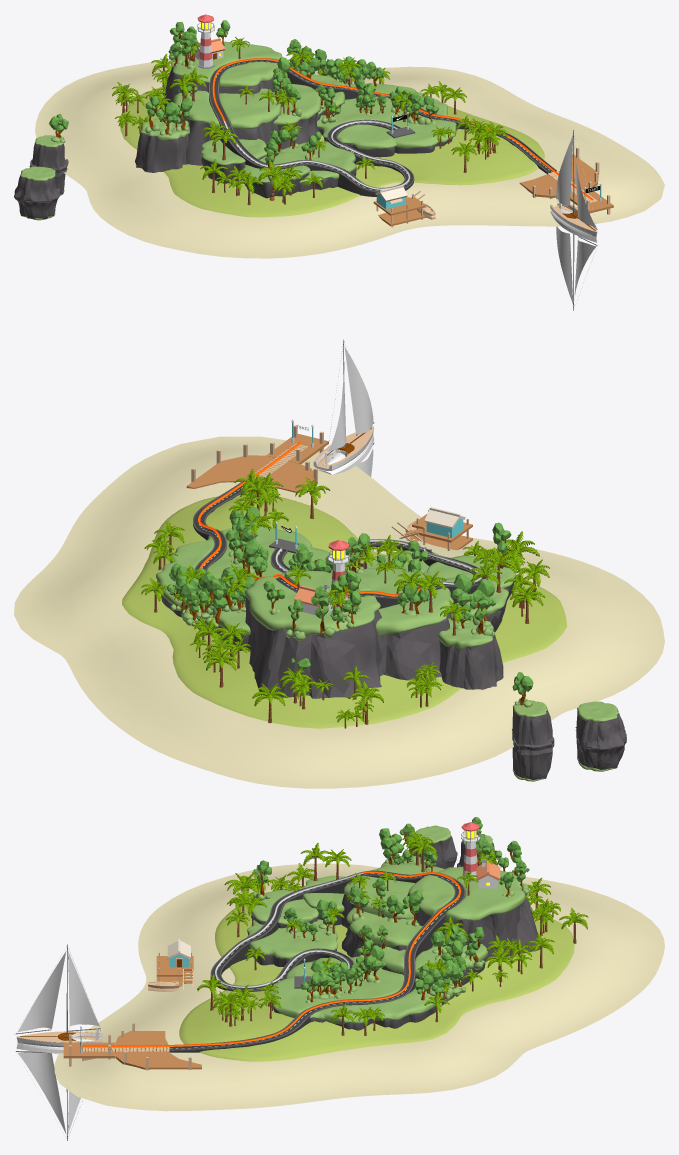
File: haidao_V2-pack.gltf
3 views of the same model, one above another, from view 1: azimuth 30°, elevation 25°; view 2: azimuth 150°, elevation 25°; view 3: azimuth 270°, elevation 25° (orthographic). The views are drawn at different scales.
Parts seen in each view (by area): view 1: object 1, object 10, object 56, object 121, pasted__yanshi_xue15_2 (×2), pCylinder10 (×2), object 49, pCylinder9 (×2), pasted__yanshi_xue17_2; view 2: object 1, object 10, object 56, pasted__yanshi_xue17_2 (×2), pasted__yanshi_xue15_2 (×2), object 121, pCylinder9, object 49, pasted__yanshi_xue15_1; view 3: object 1, object 10, object 56, pCylinder9 (×2), object 121, object 49, pCylinder10, pasted__polySurface43_2, pPlane6.
Boxes of the visible parts, left/top/right/bottom form: object 1: left=35, top=41, right=664, bottom=258; object 10: left=49, top=20, right=507, bottom=205; object 56: left=209, top=60, right=613, bottom=214; object 121: left=212, top=58, right=593, bottom=200; pasted__yanshi_xue15_2 (×2): left=14, top=174, right=60, bottom=219; pCylinder10 (×2): left=556, top=136, right=573, bottom=303; object 49: left=195, top=14, right=224, bottom=68; pCylinder9 (×2): left=574, top=138, right=596, bottom=297; pasted__yanshi_xue17_2: left=32, top=141, right=67, bottom=177; object 1: left=14, top=436, right=664, bottom=788; object 10: left=141, top=468, right=549, bottom=728; object 56: left=186, top=419, right=487, bottom=608; pasted__yanshi_xue17_2 (×2): left=512, top=707, right=554, bottom=780; pasted__yanshi_xue15_2 (×2): left=575, top=710, right=626, bottom=770; object 121: left=198, top=441, right=482, bottom=596; pCylinder9: left=344, top=346, right=373, bottom=434; object 49: left=294, top=540, right=350, bottom=615; pasted__yanshi_xue15_1: left=577, top=701, right=618, bottom=722; object 1: left=54, top=855, right=664, bottom=1111; object 10: left=197, top=817, right=587, bottom=1035; object 56: left=63, top=870, right=465, bottom=1070; pCylinder9 (×2): left=18, top=951, right=66, bottom=1133; object 121: left=82, top=871, right=461, bottom=1047; object 49: left=461, top=822, right=500, bottom=888; pCylinder10: left=68, top=951, right=99, bottom=1026; pasted__polySurface43_2: left=17, top=1031, right=102, bottom=1042; pPlane6: left=156, top=956, right=193, bottom=976.
Size of the model in its own units: 0.9884 by 0.3803 by 1.01.
